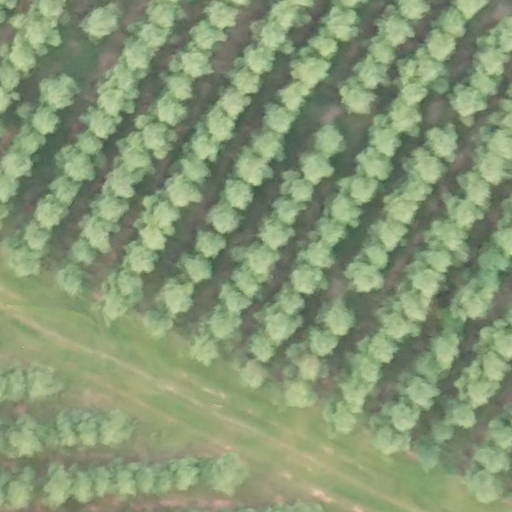eucalipto: (211, 449, 254, 497), (354, 144, 395, 182), (335, 84, 377, 119), (28, 365, 69, 400), (81, 3, 120, 39), (40, 72, 79, 108), (344, 259, 386, 292), (102, 275, 145, 307), (237, 151, 273, 189), (7, 421, 46, 456), (436, 4, 472, 41), (426, 123, 461, 161), (451, 287, 490, 321), (260, 99, 296, 135), (250, 127, 285, 164), (389, 97, 423, 135), (245, 241, 279, 279), (369, 121, 402, 160), (102, 166, 141, 199), (339, 172, 379, 204), (288, 264, 328, 296), (415, 54, 447, 93), (164, 176, 203, 208), (313, 214, 349, 248), (415, 350, 451, 384), (462, 172, 495, 209), (192, 225, 229, 258), (178, 251, 215, 284), (140, 121, 177, 154), (383, 311, 421, 343), (60, 152, 98, 184), (298, 240, 337, 271), (299, 151, 334, 185), (378, 12, 414, 45), (122, 241, 158, 274), (212, 306, 244, 343), (292, 54, 330, 85), (45, 468, 75, 507), (151, 199, 181, 238), (267, 309, 300, 344), (451, 197, 484, 232), (315, 123, 348, 158), (28, 17, 61, 52), (450, 86, 486, 118), (412, 150, 444, 186), (186, 23, 227, 51), (258, 220, 295, 251), (207, 204, 244, 235), (372, 219, 405, 253), (189, 129, 222, 163), (5, 475, 37, 510), (325, 195, 360, 227), (243, 46, 278, 78), (204, 108, 236, 143), (176, 50, 216, 78), (249, 328, 279, 365), (402, 289, 432, 326), (475, 444, 512, 474), (103, 412, 135, 446), (368, 333, 402, 365), (141, 309, 175, 341), (283, 380, 318, 411), (432, 331, 462, 367), (355, 60, 391, 90), (223, 175, 253, 211), (55, 262, 85, 298), (341, 375, 373, 408), (389, 400, 422, 432), (378, 427, 411, 459), (163, 282, 195, 315), (221, 87, 253, 120), (84, 218, 117, 250), (425, 31, 459, 62), (153, 96, 188, 126), (204, 1, 240, 30), (173, 457, 201, 494), (272, 1, 310, 28), (259, 23, 291, 55), (466, 377, 499, 408), (328, 303, 358, 337), (473, 474, 508, 503), (218, 286, 251, 316), (121, 144, 154, 174), (48, 177, 83, 205), (232, 268, 262, 300), (478, 154, 507, 187), (437, 224, 470, 253), (190, 337, 223, 366), (279, 80, 312, 109), (179, 156, 212, 185), (329, 404, 357, 438), (444, 399, 478, 427), (1, 367, 27, 403), (413, 270, 445, 299), (139, 225, 171, 254), (163, 73, 196, 101), (133, 20, 166, 48), (145, 1, 180, 27), (238, 359, 269, 388), (110, 61, 141, 90), (9, 39, 35, 73), (478, 47, 508, 76), (123, 41, 154, 69), (97, 88, 128, 116), (1, 150, 32, 178), (273, 197, 306, 223), (76, 415, 101, 449), (408, 383, 442, 408), (233, 67, 262, 96), (480, 352, 508, 382), (308, 34, 342, 58), (425, 247, 454, 275), (30, 106, 58, 135), (398, 83, 429, 109), (308, 331, 341, 355), (389, 198, 417, 226), (12, 130, 43, 155), (70, 240, 98, 267), (486, 128, 512, 157), (298, 353, 323, 383), (407, 175, 431, 206), (97, 198, 128, 222), (492, 323, 512, 360), (363, 242, 390, 269), (429, 417, 456, 444), (470, 72, 498, 98), (92, 111, 118, 139), (323, 6, 361, 25), (94, 466, 116, 498), (278, 287, 304, 314), (370, 42, 397, 68), (76, 130, 102, 156), (396, 1, 430, 20), (1, 62, 22, 91), (290, 178, 315, 202), (76, 474, 95, 505), (359, 358, 380, 386), (136, 466, 156, 495), (117, 470, 137, 499), (157, 470, 173, 496)
